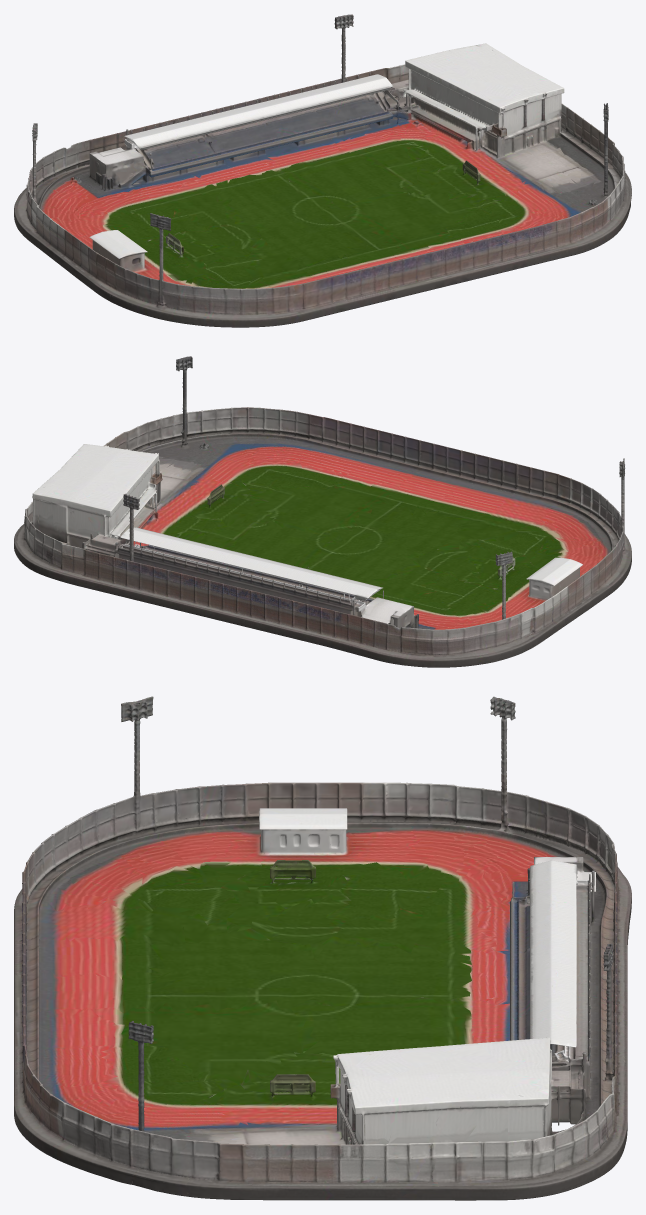
The model's file is outdoor_sports_field.glb.
3 views of the same model, one above another, from view 1: azimuth 30°, elevation 25°; view 2: azimuth 150°, elevation 25°; view 3: azimuth 270°, elevation 25° (orthographic). The views are drawn at different scales.
Parts seen in each view (by area): view 1: Meshy_AI_Miniature_Athletics_S_0814120433_texture; view 2: Meshy_AI_Miniature_Athletics_S_0814120433_texture; view 3: Meshy_AI_Miniature_Athletics_S_0814120433_texture.
Part boxes in pixels (bbox=[...]): Meshy_AI_Miniature_Athletics_S_0814120433_texture: bbox=[14, 14, 631, 327]; Meshy_AI_Miniature_Athletics_S_0814120433_texture: bbox=[14, 356, 631, 667]; Meshy_AI_Miniature_Athletics_S_0814120433_texture: bbox=[14, 696, 631, 1200].
Size of the model in its own units: 1.9 by 0.3526 by 1.34.
Materials: 1 (1 with a texture image).
